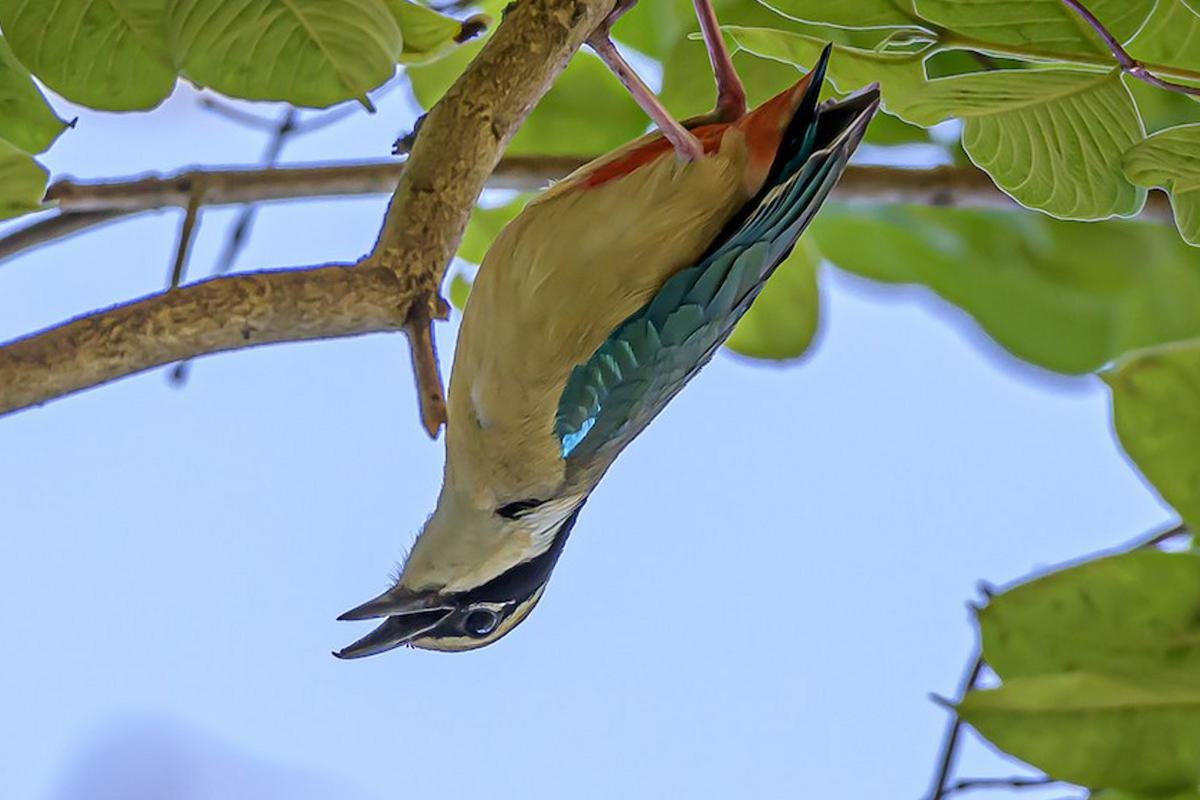pitta: (317, 37, 891, 713)
